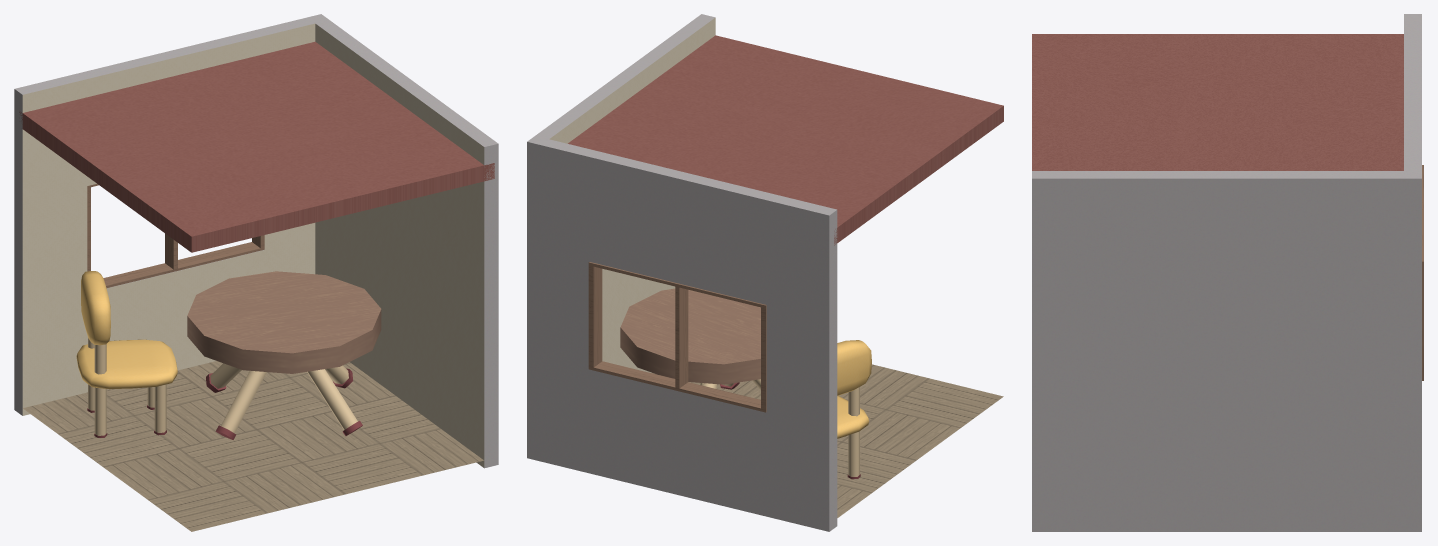
File: house_w2_window.fbx
The picture shows the model from 3 angles, left to right: view 1: azimuth 30°, elevation 25°; view 2: azimuth 150°, elevation 25°; view 3: azimuth 270°, elevation 25°; orthographic projection. The views are drawn at different scales.
Parts seen in each view (by area): view 1: wall_2_window.001, wall_2_window.002, table.001, chair.001, wall_2_window.003; view 2: wall_2_window.001, wall_2_window.002, table.001, wall_2_window.003, chair.001; view 3: wall_2_window.001.
Part boxes in pixels (x1,y1,x2,y2): wall_2_window.001: [14, 14, 498, 468]; wall_2_window.002: [23, 361, 483, 531]; table.001: [187, 271, 381, 439]; chair.001: [76, 271, 177, 437]; wall_2_window.003: [87, 184, 264, 288]; wall_2_window.001: [527, 14, 1003, 531]; wall_2_window.002: [651, 364, 1003, 517]; table.001: [620, 288, 760, 390]; wall_2_window.003: [588, 262, 766, 412]; chair.001: [837, 340, 871, 479]; wall_2_window.001: [1032, 14, 1421, 531].
Size of the model in its own units: 2 by 2 by 2.01.
Materials: 3 (3 with a texture image).
